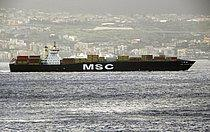Ship: (9, 40, 199, 74)
